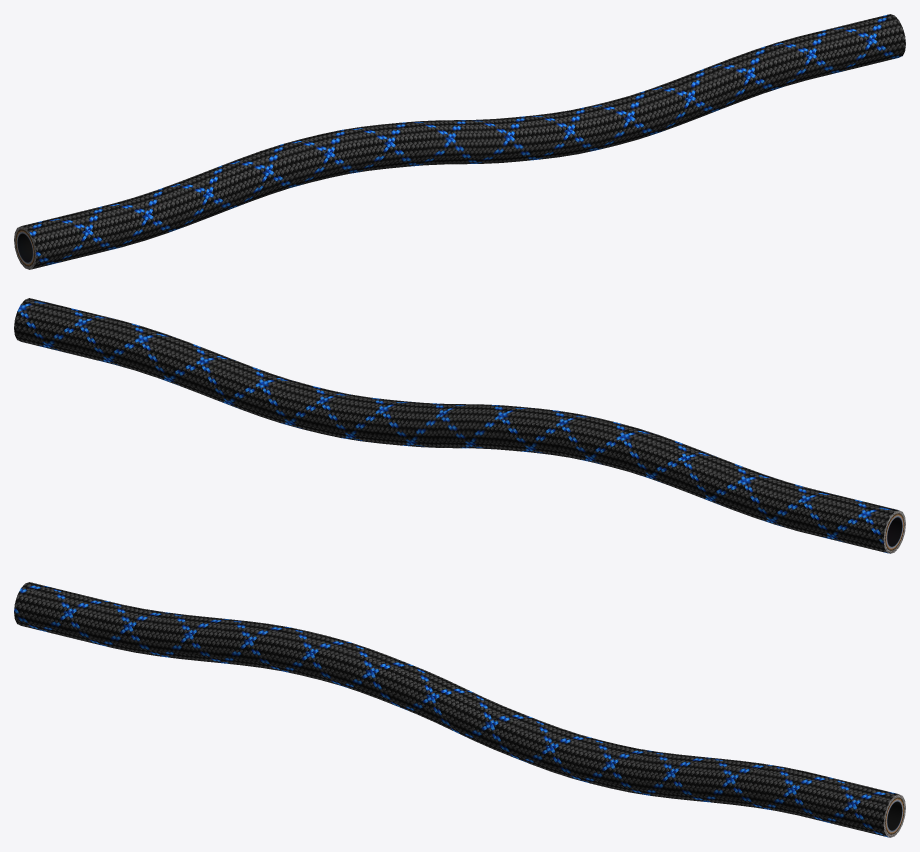
Rendered from Polyester.glb.
3 renders of one model, top to bottom at view 1: azimuth 30°, elevation 25°; view 2: azimuth 150°, elevation 25°; view 3: azimuth 330°, elevation 25°, orthographic.
Visible parts, largest first — view 1: Polyester_Braid.001; view 2: Polyester_Braid.001; view 3: Polyester_Braid.001.
Boxes of the visible parts, x1,y1,x2,y2 form: Polyester_Braid.001: (14,14,905,269); Polyester_Braid.001: (14,298,905,553); Polyester_Braid.001: (14,582,905,837).
Bounding box in the file's own units: 0.3074 × 0.0264 × 0.0137.
Materials: 2 (2 with a texture image).
